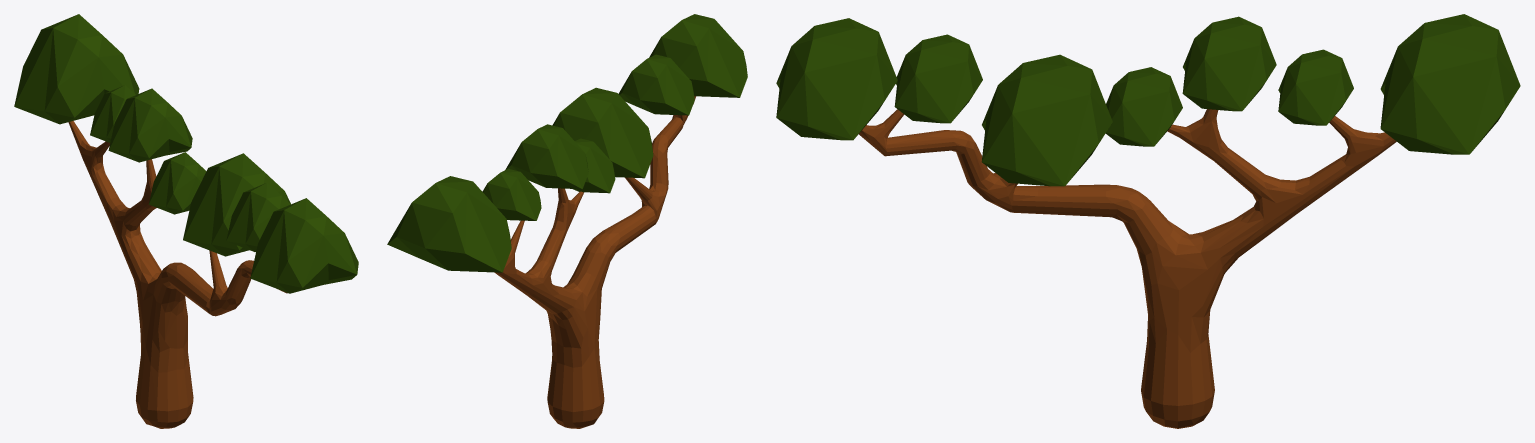
File: tree2.fbx
The picture shows the model from 3 angles, left to right: view 1: azimuth 30°, elevation 25°; view 2: azimuth 150°, elevation 25°; view 3: azimuth 270°, elevation 25°; orthographic projection. The views are drawn at different scales.
Parts seen in each view (by area): view 1: Cube, Icosphere.006, Icosphere, Icosphere.002, Icosphere.004, Icosphere.001, Icosphere.003, Icosphere.005; view 2: Cube, Icosphere.006, Icosphere.002, Icosphere, Icosphere.004, Icosphere.001, Icosphere.005, Icosphere.003; view 3: Cube, Icosphere.006, Icosphere.002, Icosphere, Icosphere.004, Icosphere.001, Icosphere.003, Icosphere.005.
Boxes of the visible parts, x1,y1,x2,y2 form: Cube: (68,121,287,428); Icosphere.006: (14,14,139,124); Icosphere: (250,198,358,293); Icosphere.002: (183,153,290,256); Icosphere.004: (108,88,192,162); Icosphere.001: (226,183,290,251); Icosphere.003: (149,152,206,214); Icosphere.005: (90,85,135,142); Cube: (494,96,695,428); Icosphere.006: (387,176,511,272); Icosphere.002: (552,87,653,178); Icosphere: (649,14,747,97); Icosphere.004: (505,124,588,189); Icosphere.001: (618,54,694,115); Icosphere.005: (482,169,541,220); Icosphere.003: (573,138,615,193); Cube: (859,109,1396,428); Icosphere.006: (1380,14,1520,154); Icosphere.002: (981,54,1112,186); Icosphere: (776,18,897,140); Icosphere.004: (1182,16,1276,111); Icosphere.001: (894,34,982,123); Icosphere.003: (1105,67,1182,146); Icosphere.005: (1278,49,1353,125).
Size of the model in its own units: 265 by 661 by 1072.
